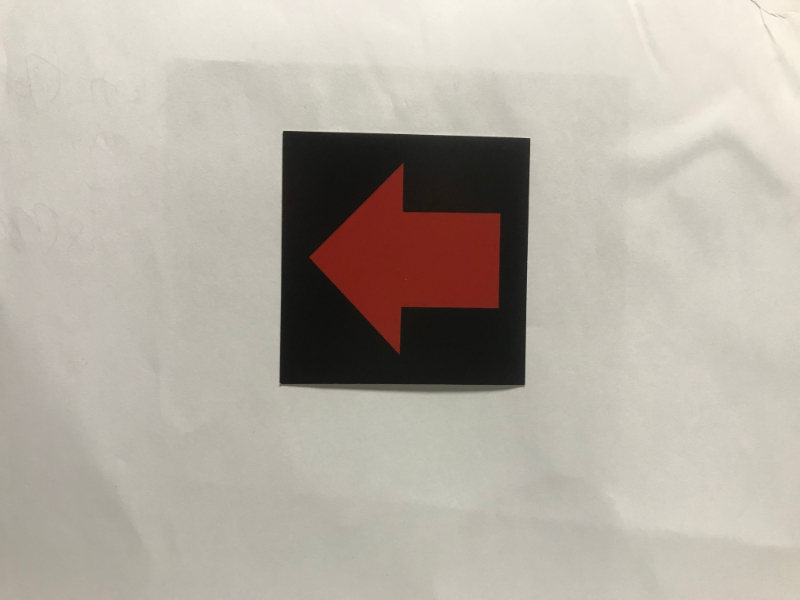DA-2: (290, 140, 521, 382)
